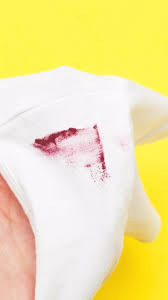kimchi: (76, 120, 110, 184), (34, 124, 85, 160)
